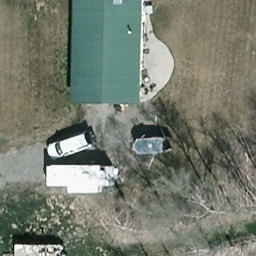camping car: (44, 167, 117, 189)
car: (41, 132, 100, 158)
